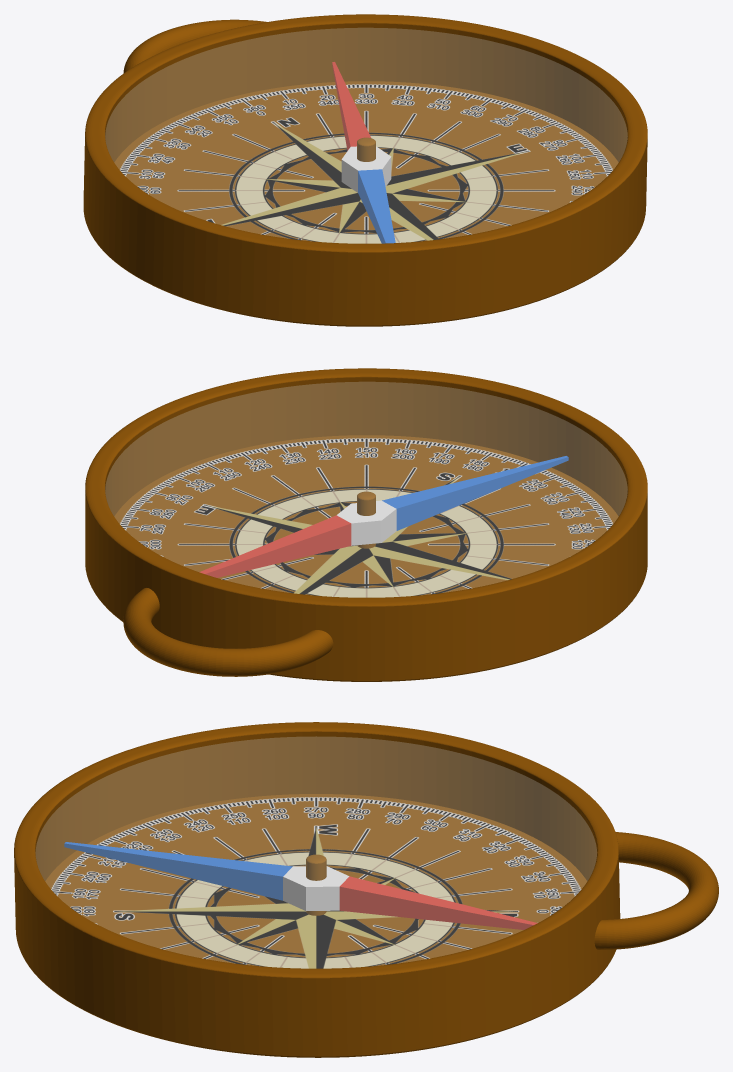
3 views of the same model, one above another, from view 1: azimuth 30°, elevation 25°; view 2: azimuth 150°, elevation 25°; view 3: azimuth 270°, elevation 25° (orthographic). The views are drawn at different scales.
Parts seen in each view (by area): view 1: Body_2, Glass_5, compassBG_4, Dial_3; view 2: Body_2, Glass_5, compassBG_4, Dial_3; view 3: Body_2, Glass_5, compassBG_4, Dial_3.
Part boxes in pixels (box(x1,y1,x2,y2)): Body_2: box(83, 14, 647, 326); Glass_5: box(105, 28, 627, 243); compassBG_4: box(120, 84, 612, 243); Dial_3: box(332, 62, 395, 243); Body_2: box(85, 368, 647, 681); Glass_5: box(105, 382, 627, 597); compassBG_4: box(120, 438, 612, 597); Dial_3: box(199, 456, 568, 577); Body_2: box(14, 722, 718, 1057); Glass_5: box(36, 736, 596, 968); compassBG_4: box(51, 797, 581, 968); Dial_3: box(64, 842, 537, 929).
Size of the model in its own units: 3.98 by 0.6138 by 4.63.
6 materials, 1 textured.
